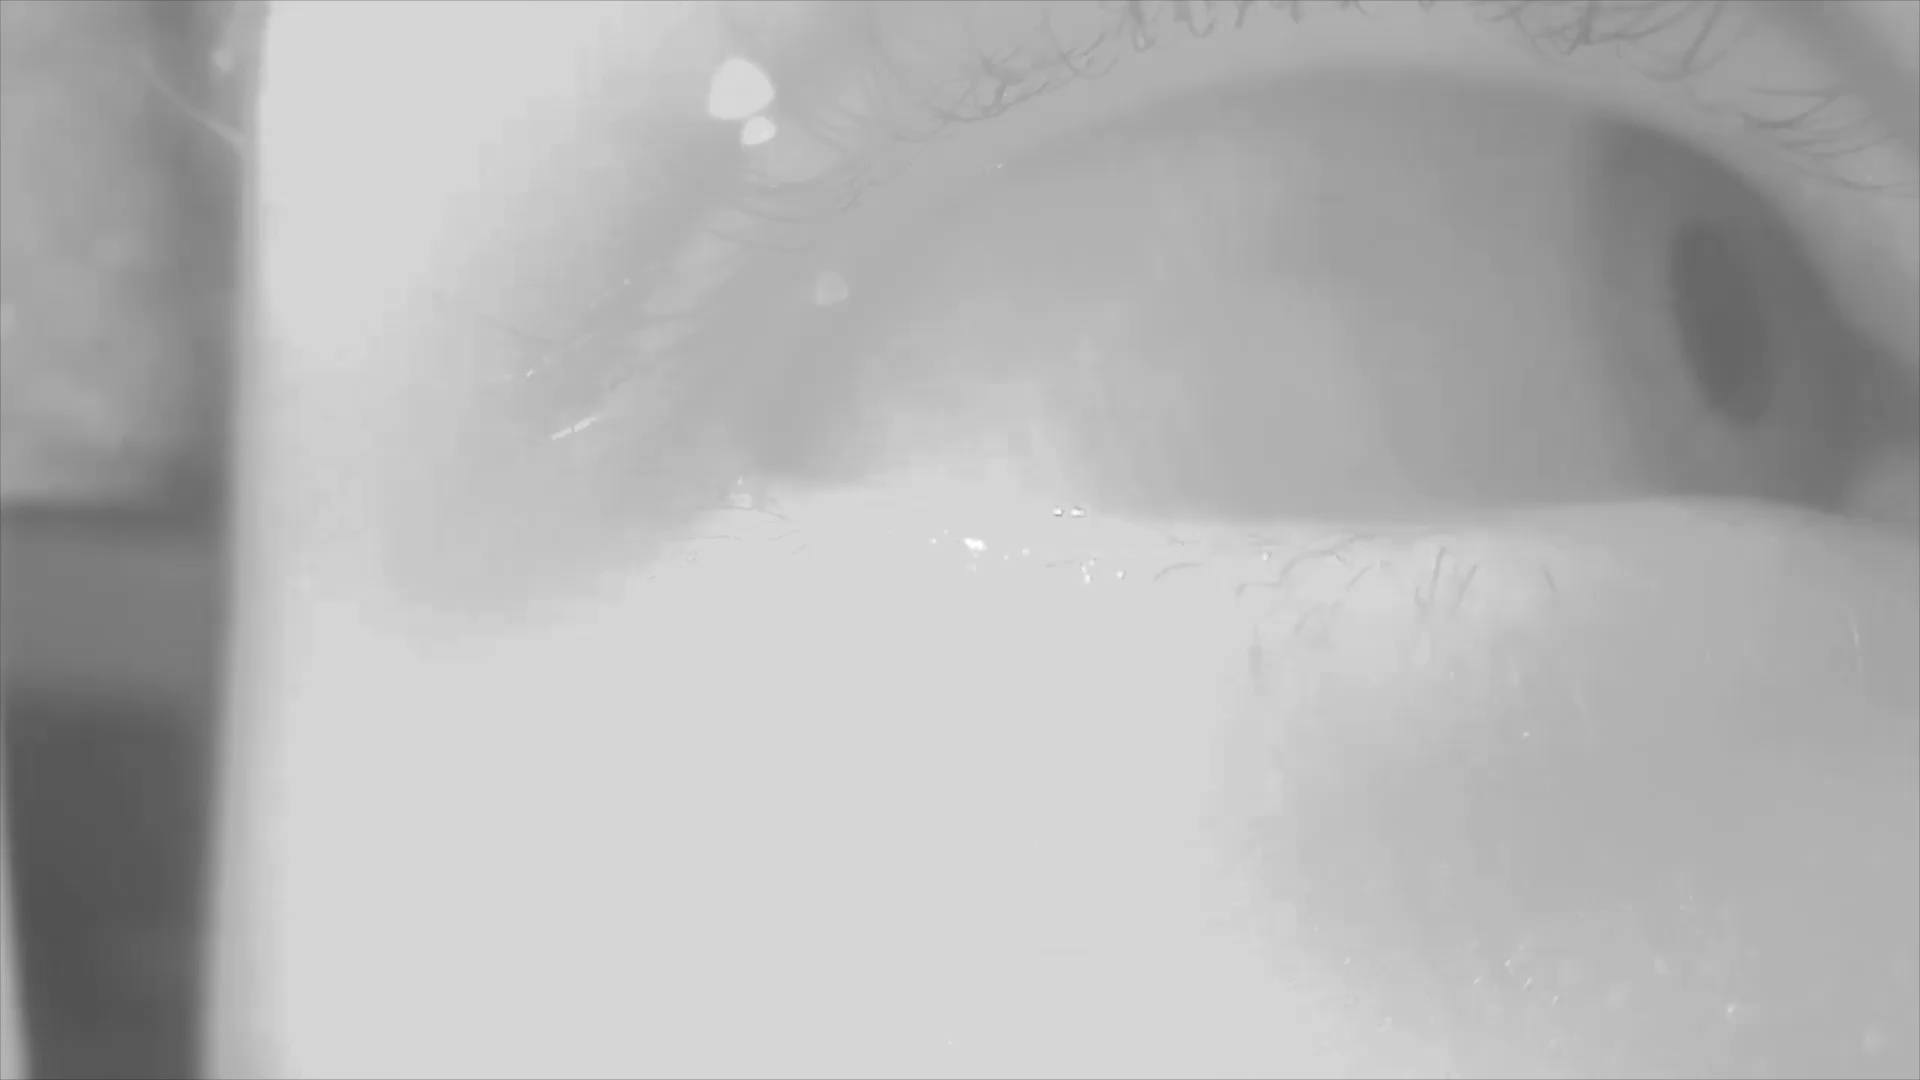pupil: (1663, 226, 1780, 420)
